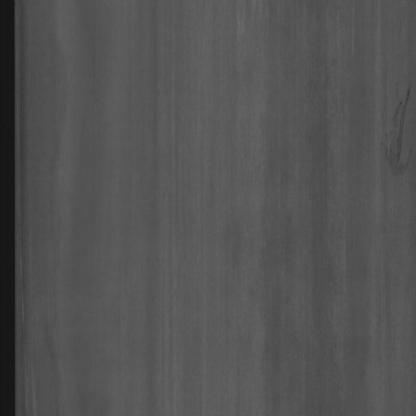water_spot: (378, 75, 414, 176)
